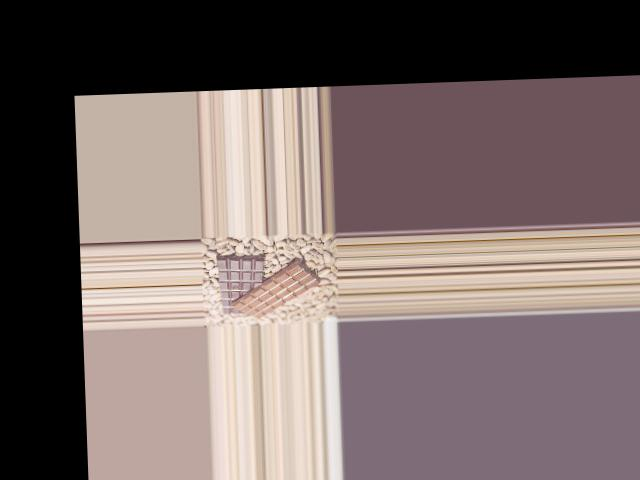chocolate: (210, 251, 266, 318)
